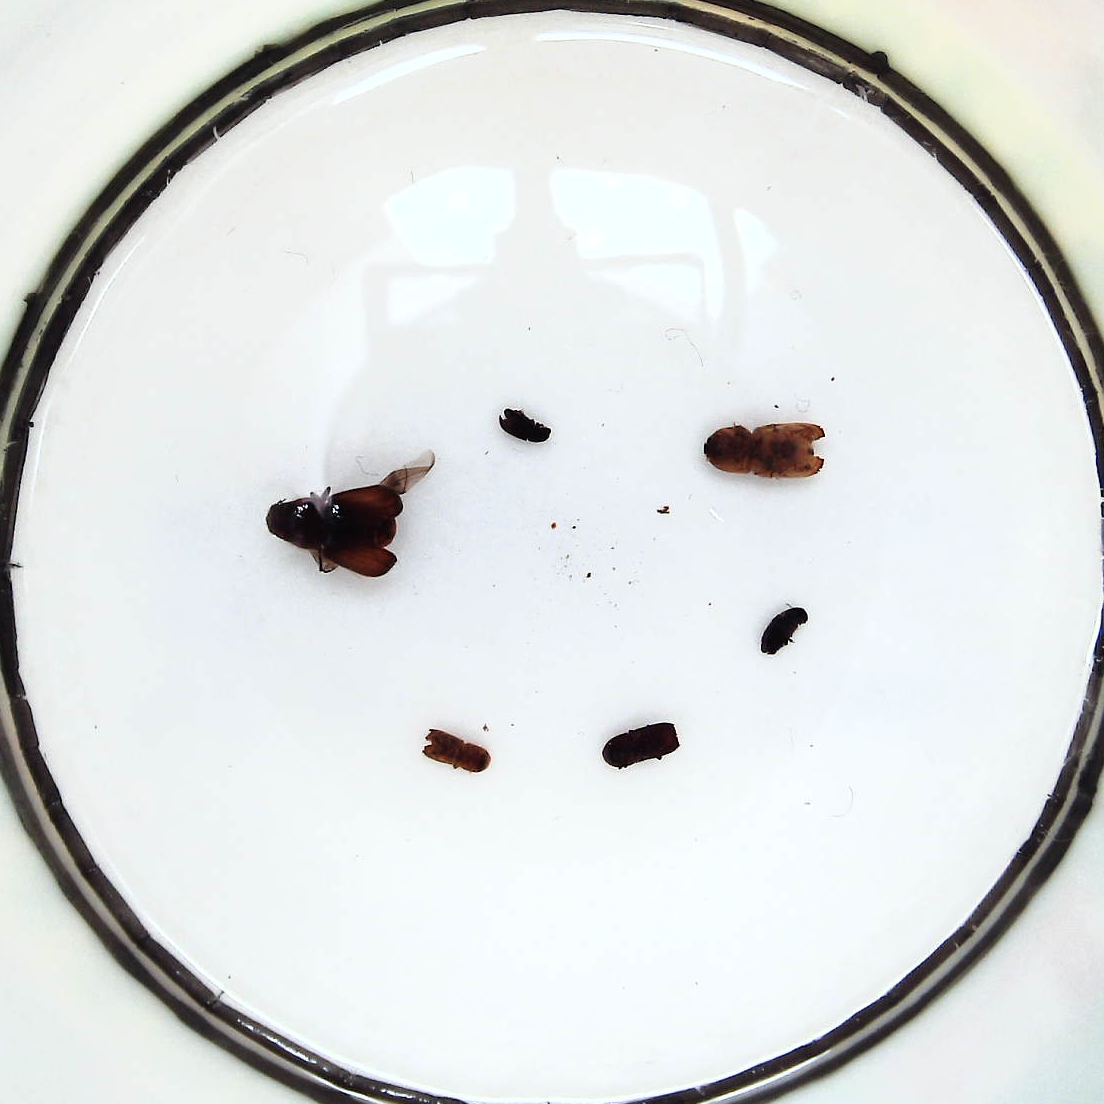Boerner: (704, 421, 825, 479)
Leconte: (266, 488, 400, 579)
acuminatus: (760, 607, 808, 655)
armandi: (421, 730, 490, 773)
coleoptera: (498, 408, 551, 443)
linnaeus: (602, 724, 680, 769)
